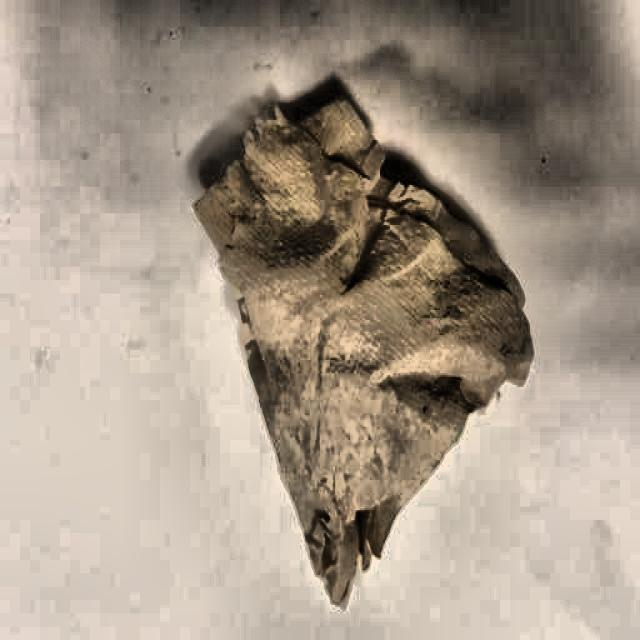paper: (186, 89, 488, 579)
